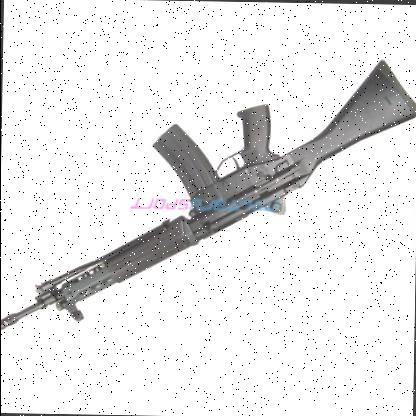rifle: (9, 45, 408, 357)
